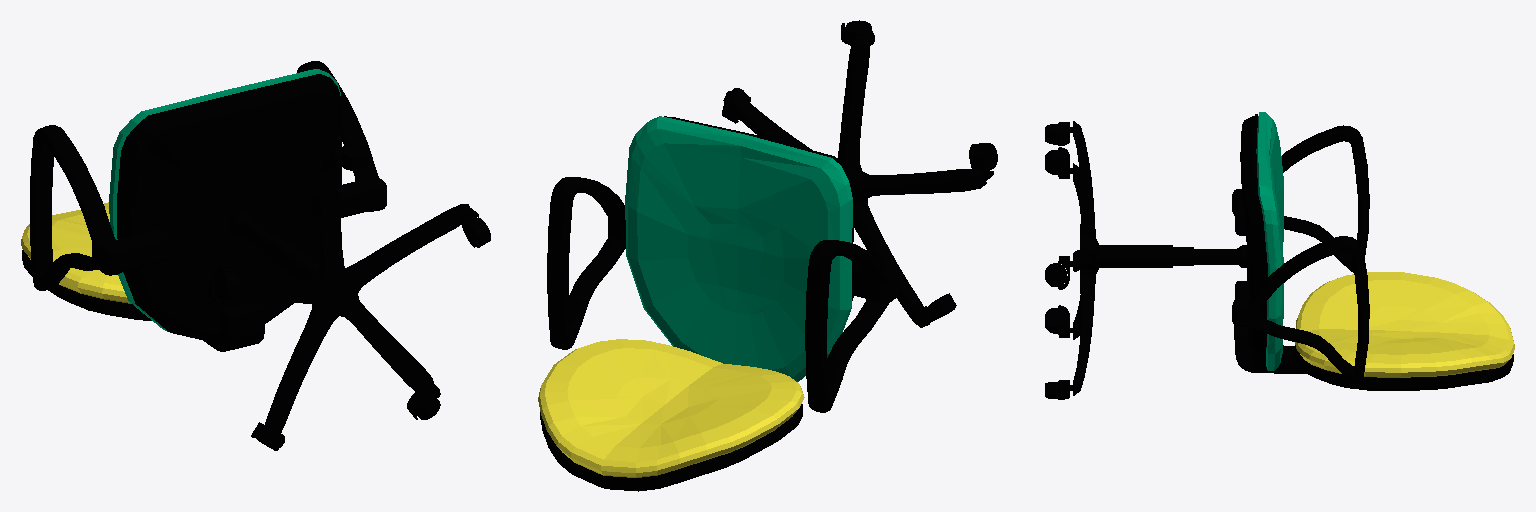
The robot description file, URDF, robot "335":
<robot name="335">


	<link name="0:virtual">
		<visual>
			<origin xyz="0.0 0.0 0.0" rpy="0 0 0"/>
			<geometry>
				<cylinder length="0" radius="0"/>
			</geometry>
		</visual>
	</link>


	<link name="1:static">
		<visual>
			<origin xyz="-0.0 -0.0 -0.0" rpy="0 0 0"/>
			<geometry>
				<mesh filename="../raw_data/335/part_meshes/1.dae" />
			</geometry>
		</visual>
	</link>


	<link name="2:seat 1">
		<visual>
			<origin xyz="0.0006612018783845874 -0.48143652081489563 0.012038486080212785" rpy="0 0 0"/>
			<geometry>
				<mesh filename="../raw_data/335/part_meshes/2.dae" />
			</geometry>
		</visual>
	</link>


	<link name="3:back 1">
		<visual>
			<origin xyz="-0.0 -0.7962155342102051 0.232573501765728" rpy="0 0 0"/>
			<geometry>
				<mesh filename="../raw_data/335/part_meshes/3.dae" />
			</geometry>
		</visual>
	</link>


	<link name="4:wheel 1">
		<visual>
			<origin xyz="-0.2790089157069972 -0.025259584668674506 -0.0658795236838393" rpy="0 0 0"/>
			<geometry>
				<mesh filename="../raw_data/335/part_meshes/4.dae" />
			</geometry>
		</visual>
	</link>


	<link name="5:wheel 2">
		<visual>
			<origin xyz="-0.008753250353038311 -0.025259589165216312 -0.2834869921207428" rpy="0 0 0"/>
			<geometry>
				<mesh filename="../raw_data/335/part_meshes/5.dae" />
			</geometry>
		</visual>
	</link>


	<link name="6:wheel 3">
		<visual>
			<origin xyz="0.2735989465889165 -0.025259585163439624 -0.08320913510829739" rpy="0 0 0"/>
			<geometry>
				<mesh filename="../raw_data/335/part_meshes/6.dae" />
			</geometry>
		</visual>
	</link>


	<link name="7:wheel 4">
		<visual>
			<origin xyz="0.17784655607603142 -0.02525957715988625 0.25817708051272775" rpy="0 0 0"/>
			<geometry>
				<mesh filename="../raw_data/335/part_meshes/7.dae" />
			</geometry>
		</visual>
	</link>


	<link name="8:wheel 5">
		<visual>
			<origin xyz="-0.16368376790822767 -0.02525957715988625 0.26888736477292197" rpy="0 0 0"/>
			<geometry>
				<mesh filename="../raw_data/335/part_meshes/8.dae" />
			</geometry>
		</visual>
	</link>


	<link name="9:gas lift piece 1">
		<visual>
			<origin xyz="1.5506874742610144e-09 -0.1991405040025711 0.018897852546253202" rpy="0 0 0"/>
			<geometry>
				<mesh filename="../raw_data/335/part_meshes/9.dae" />
			</geometry>
		</visual>
	</link>


	<link name="10:caster 1">
		<visual>
			<origin xyz="0.017370465453642785 -0.04694264940917492 -0.2832771436720425" rpy="0 0 0"/>
			<geometry>
				<mesh filename="../raw_data/335/part_meshes/10.dae" />
			</geometry>
		</visual>
	</link>


	<link name="11:caster 2">
		<visual>
			<origin xyz="-0.27404881776393314 -0.0474907001554966 -0.08430500426129597" rpy="0 0 0"/>
			<geometry>
				<mesh filename="../raw_data/335/part_meshes/11.dae" />
			</geometry>
		</visual>
	</link>


	<link name="12:caster 3">
		<visual>
			<origin xyz="-0.18542075624881676 -0.04694264940917492 0.25237669248498834" rpy="0 0 0"/>
			<geometry>
				<mesh filename="../raw_data/335/part_meshes/12.dae" />
			</geometry>
		</visual>
	</link>


	<link name="13:caster 4">
		<visual>
			<origin xyz="0.15578748791753266 -0.04694264940917492 0.2741130091421757" rpy="0 0 0"/>
			<geometry>
				<mesh filename="../raw_data/335/part_meshes/13.dae" />
			</geometry>
		</visual>
	</link>


	<link name="14:caster 5">
		<visual>
			<origin xyz="0.2812476877765576 -0.04694264940917492 -0.058887474768614584" rpy="0 0 0"/>
			<geometry>
				<mesh filename="../raw_data/335/part_meshes/14.dae" />
			</geometry>
		</visual>
	</link>


	<joint name="0:virtual::1:static" type="fixed">
		<parent link="0:virtual"/>
		<child link="1:static"/>
		<origin xyz="0.0 0.0 0.0" rpy="0 0 0"/>
	</joint>


	<joint name="9:gas lift piece 1::2:seat 1_translation" type="prismatic">
		<parent link="9:gas lift piece 1"/>
		<child link="2:seat 1"/>
		<origin xyz="-0.0006612003276971132 0.2822960168123245 0.006859366466040417" rpy="0 0 0"/>
		<limit lower="-0.060016512870788574" upper="0.060016512870788574" effort="10" velocity="3"/>
		<axis xyz="0.0 1.0 0.0"/>
	</joint>


	<joint name="2:seat 1::3:back 1_translation" type="prismatic">
		<parent link="2:seat 1"/>
		<child link="3:back 1"/>
		<origin xyz="0.0006612018783845874 0.31477901339530945 -0.2205350156855152" rpy="0 0 0"/>
		<limit lower="-0.0011159952878952" upper="0.0468840047121048" effort="10" velocity="3"/>
		<axis xyz="0.0 0.0 -1.0"/>
	</joint>


	<joint name="11:caster 2::4:wheel 1_rotation" type="revolute">
		<parent link="11:caster 2"/>
		<child link="4:wheel 1"/>
		<origin xyz="0.004960097943064068 -0.022231115486822092 -0.018425480577456674" rpy="0 0 0"/>
		<limit lower="-3.141592653589793" upper="3.141592653589793" effort="10" velocity="3"/>
		<axis xyz="-0.9545696653889917 0.0 -0.2979878418982032"/>
	</joint>


	<joint name="10:caster 1::5:wheel 2_rotation" type="revolute">
		<parent link="10:caster 1"/>
		<child link="5:wheel 2"/>
		<origin xyz="0.026123715806681096 -0.021683060243958607 0.0002098484487003116" rpy="0 0 0"/>
		<limit lower="-3.141592653589793" upper="3.141592653589793" effort="10" velocity="3"/>
		<axis xyz="0.0 0.0 1.0"/>
	</joint>


	<joint name="14:caster 5::6:wheel 3_rotation" type="revolute">
		<parent link="14:caster 5"/>
		<child link="6:wheel 3"/>
		<origin xyz="0.007648741187641139 -0.021683064245735295 0.024321660339682805" rpy="0 0 0"/>
		<limit lower="-3.141592653589793" upper="3.141592653589793" effort="10" velocity="3"/>
		<axis xyz="0.9545708595090903 0.0 -0.29798401664531715"/>
	</joint>


	<joint name="13:caster 4::7:wheel 4_rotation" type="revolute">
		<parent link="13:caster 4"/>
		<child link="7:wheel 4"/>
		<origin xyz="-0.022059068158498757 -0.02168307224928867 0.015935928629447926" rpy="0 0 0"/>
		<limit lower="-3.141592653589793" upper="3.141592653589793" effort="10" velocity="3"/>
		<axis xyz="-0.6031621982172745 0.0 -0.7976185571071583"/>
	</joint>


	<joint name="12:caster 3::8:wheel 5_rotation" type="revolute">
		<parent link="12:caster 3"/>
		<child link="8:wheel 5"/>
		<origin xyz="-0.021736988340589097 -0.02168307224928867 -0.016510672287933625" rpy="0 0 0"/>
		<limit lower="-3.141592653589793" upper="3.141592653589793" effort="10" velocity="3"/>
		<axis xyz="0.6031556388174651 0.0 -0.7976235173079439"/>
	</joint>


	<joint name="0:virtual::9:gas lift piece 1_rotation" type="revolute">
		<parent link="0:virtual"/>
		<child link="9:gas lift piece 1"/>
		<origin xyz="-1.5506874742610144e-09 0.1991405040025711 -0.018897852546253202" rpy="0 0 0"/>
		<limit lower="-3.141592653589793" upper="3.141592653589793" effort="10" velocity="3"/>
		<axis xyz="0.0 1.0 0.0"/>
	</joint>


	<joint name="0:virtual::10:caster 1_rotation" type="revolute">
		<parent link="0:virtual"/>
		<child link="10:caster 1"/>
		<origin xyz="-0.017370465453642785 0.04694264940917492 0.2832771436720425" rpy="0 0 0"/>
		<limit lower="-3.141592653589793" upper="3.141592653589793" effort="10" velocity="3"/>
		<axis xyz="0.0 1.0 0.0"/>
	</joint>


	<joint name="0:virtual::11:caster 2_rotation" type="revolute">
		<parent link="0:virtual"/>
		<child link="11:caster 2"/>
		<origin xyz="0.27404881776393314 0.0474907001554966 0.08430500426129597" rpy="0 0 0"/>
		<limit lower="-3.141592653589793" upper="3.141592653589793" effort="10" velocity="3"/>
		<axis xyz="0.0 1.0 0.0"/>
	</joint>


	<joint name="0:virtual::12:caster 3_rotation" type="revolute">
		<parent link="0:virtual"/>
		<child link="12:caster 3"/>
		<origin xyz="0.18542075624881676 0.04694264940917492 -0.25237669248498834" rpy="0 0 0"/>
		<limit lower="-3.141592653589793" upper="3.141592653589793" effort="10" velocity="3"/>
		<axis xyz="0.0 1.0 0.0"/>
	</joint>


	<joint name="0:virtual::13:caster 4_rotation" type="revolute">
		<parent link="0:virtual"/>
		<child link="13:caster 4"/>
		<origin xyz="-0.15578748791753266 0.04694264940917492 -0.2741130091421757" rpy="0 0 0"/>
		<limit lower="-3.141592653589793" upper="3.141592653589793" effort="10" velocity="3"/>
		<axis xyz="0.0 1.0 0.0"/>
	</joint>


	<joint name="0:virtual::14:caster 5_rotation" type="revolute">
		<parent link="0:virtual"/>
		<child link="14:caster 5"/>
		<origin xyz="-0.2812476877765576 0.04694264940917492 0.058887474768614584" rpy="0 0 0"/>
		<limit lower="-3.141592653589793" upper="3.141592653589793" effort="10" velocity="3"/>
		<axis xyz="0.0 1.0 0.0"/>
	</joint>


</robot>

--- What the picture shows (computed from the rendered views, not written in the file) ---
The picture shows the robot from 3 angles, left to right: view 1: azimuth 30°, elevation 25°; view 2: azimuth 150°, elevation 25°; view 3: azimuth 270°, elevation 25°; orthographic projection.
Model 335 with 15 links and 14 joints (11 revolute, 2 prismatic, 1 fixed), rooted at 0:virtual, posed all joints at 0.
Links seen in each view (by area): view 1: 2:seat 1, 1:static, 3:back 1, 9:gas lift piece 1, 8:wheel 5, 6:wheel 3, 5:wheel 2, 4:wheel 1; view 2: 2:seat 1, 3:back 1, 1:static; view 3: 3:back 1, 2:seat 1, 1:static, 9:gas lift piece 1.
Boxes of the visible links, x1,y1,x2,y2 form: 2:seat 1: (30, 61, 386, 351); 1:static: (205, 145, 469, 432); 3:back 1: (21, 202, 151, 320); 9:gas lift piece 1: (229, 211, 320, 280); 8:wheel 5: (411, 390, 440, 419); 6:wheel 3: (213, 272, 239, 299); 5:wheel 2: (342, 147, 367, 170); 4:wheel 1: (465, 217, 490, 247); 2:seat 1: (547, 116, 897, 412); 3:back 1: (538, 339, 804, 491); 1:static: (723, 34, 986, 327); 3:back 1: (1295, 272, 1514, 390); 2:seat 1: (1232, 112, 1369, 382); 1:static: (1073, 121, 1095, 395); 9:gas lift piece 1: (1096, 239, 1246, 273).
Bounding box of the posed robot: 0.62 × 1.04 × 0.5999 m (x, y, z).
14 mesh visuals loaded from 14 distinct referenced files (14 Collada DAE).